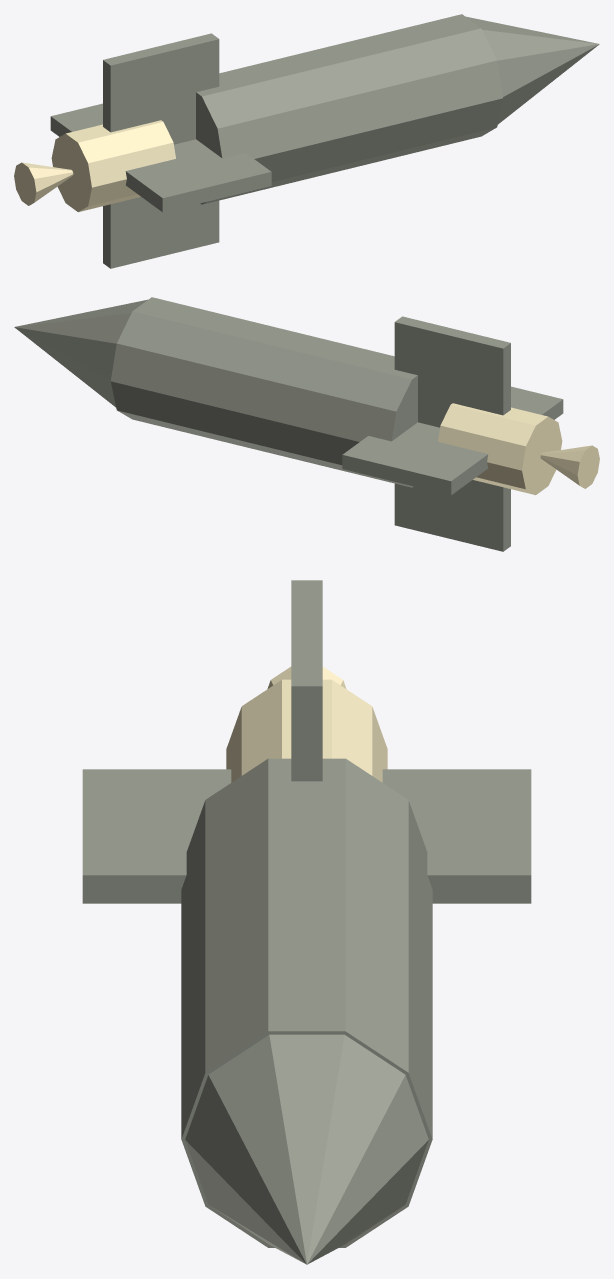
File: projectile_rocket.glb
3 renders of one model, top to bottom at view 1: azimuth 30°, elevation 25°; view 2: azimuth 150°, elevation 25°; view 3: azimuth 270°, elevation 25°, orthographic. The views are drawn at different scales.
Visible parts, largest first — view 1: Rocket, accent_RocketExhaust; view 2: Rocket, accent_RocketExhaust; view 3: Rocket, accent_RocketExhaust.
Boxes of the visible parts, x1=… form: Rocket: x1=50, y1=14, x2=599, y2=268; accent_RocketExhaust: x1=14, y1=120, x2=175, y2=212; Rocket: x1=14, y1=297, x2=563, y2=551; accent_RocketExhaust: x1=438, y1=403, x2=599, y2=495; Rocket: x1=82, y1=580, x2=531, y2=1264; accent_RocketExhaust: x1=226, y1=666, x2=387, y2=782.
Size of the model in its own units: 1.48 by 0.5 by 0.5.
